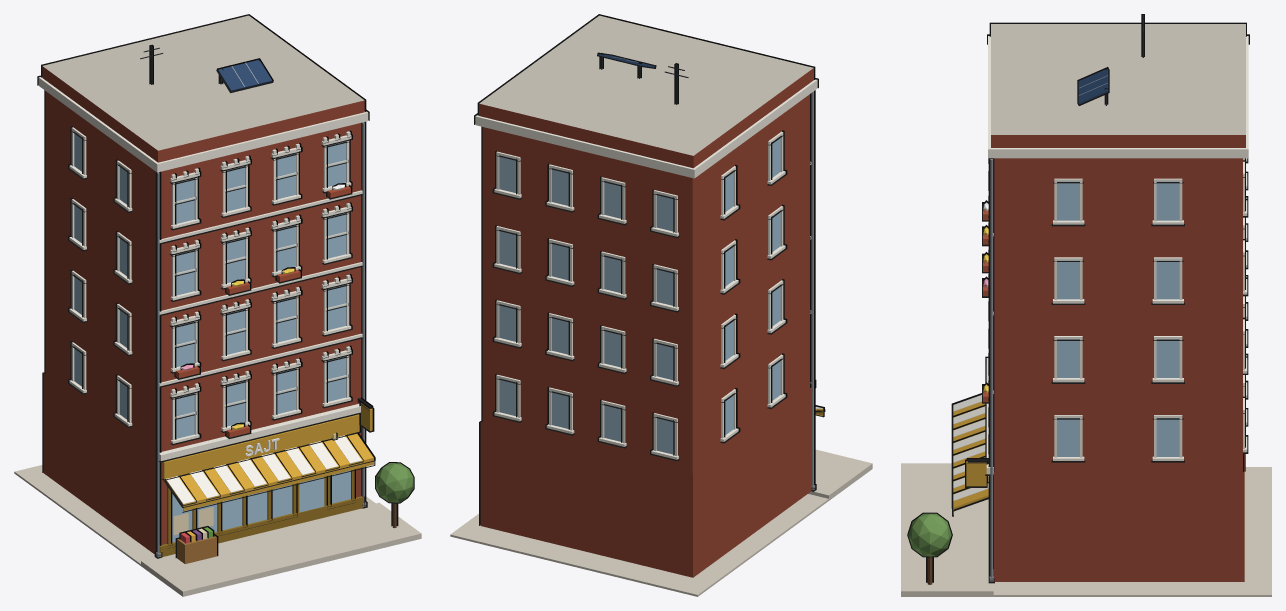
File: Dukkan_genel_sajt.fbx
3 renders of one model, left to right at view 1: azimuth 30°, elevation 25°; view 2: azimuth 150°, elevation 25°; view 3: azimuth 270°, elevation 25°, orthographic. The views are drawn at different scales.
Parts seen in each view (by area): view 1: Dukkan_genel_sajt; view 2: Dukkan_genel_sajt; view 3: Dukkan_genel_sajt.
Boxes of the visible parts, left/top/right/bottom form: Dukkan_genel_sajt: left=14, top=14, right=421, bottom=596; Dukkan_genel_sajt: left=450, top=14, right=872, bottom=596; Dukkan_genel_sajt: left=901, top=14, right=1271, bottom=596.
Size of the model in its own units: 10.65 by 18.91 by 12.8.
